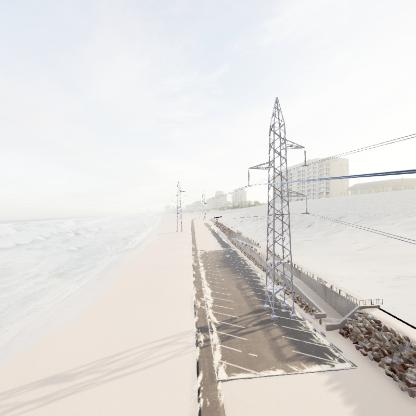tower: (242, 94, 311, 320), (165, 179, 191, 234)
